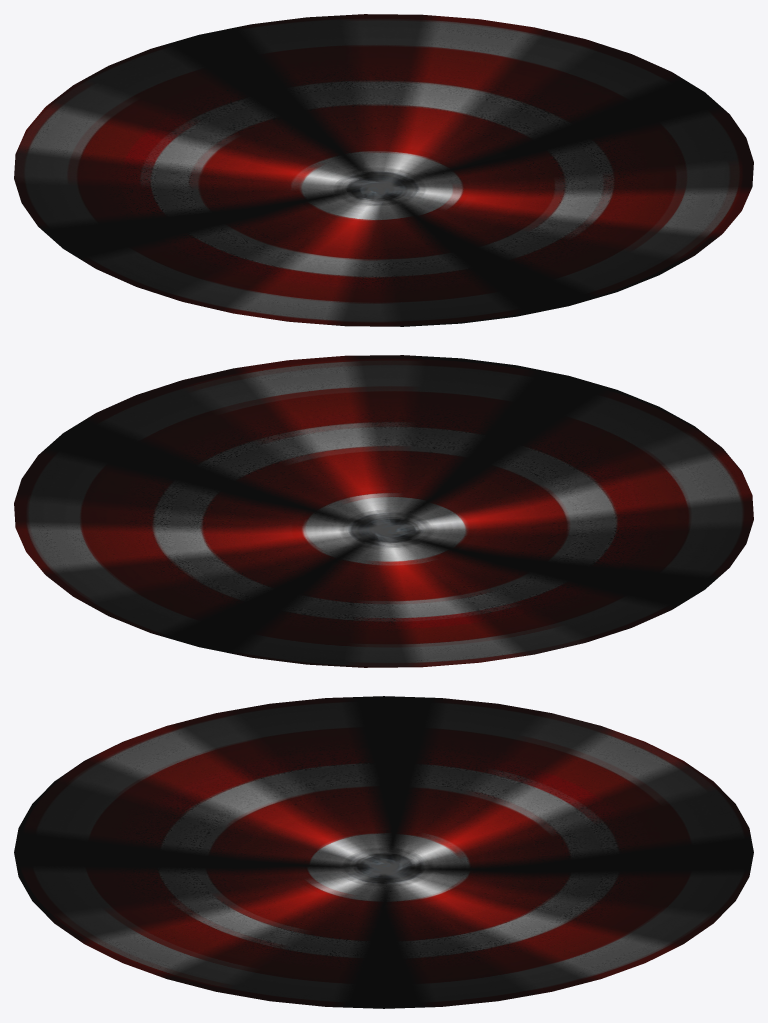
Rendered from blade_fly.obj.
3 views of the same model, one above another, from view 1: azimuth 30°, elevation 25°; view 2: azimuth 150°, elevation 25°; view 3: azimuth 270°, elevation 25° (orthographic).
Size of the model in its own units: 157418 by 4089 by 157418.
1 material, 1 textured.
